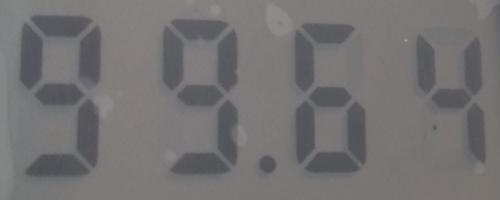.: (254, 153, 278, 174)
